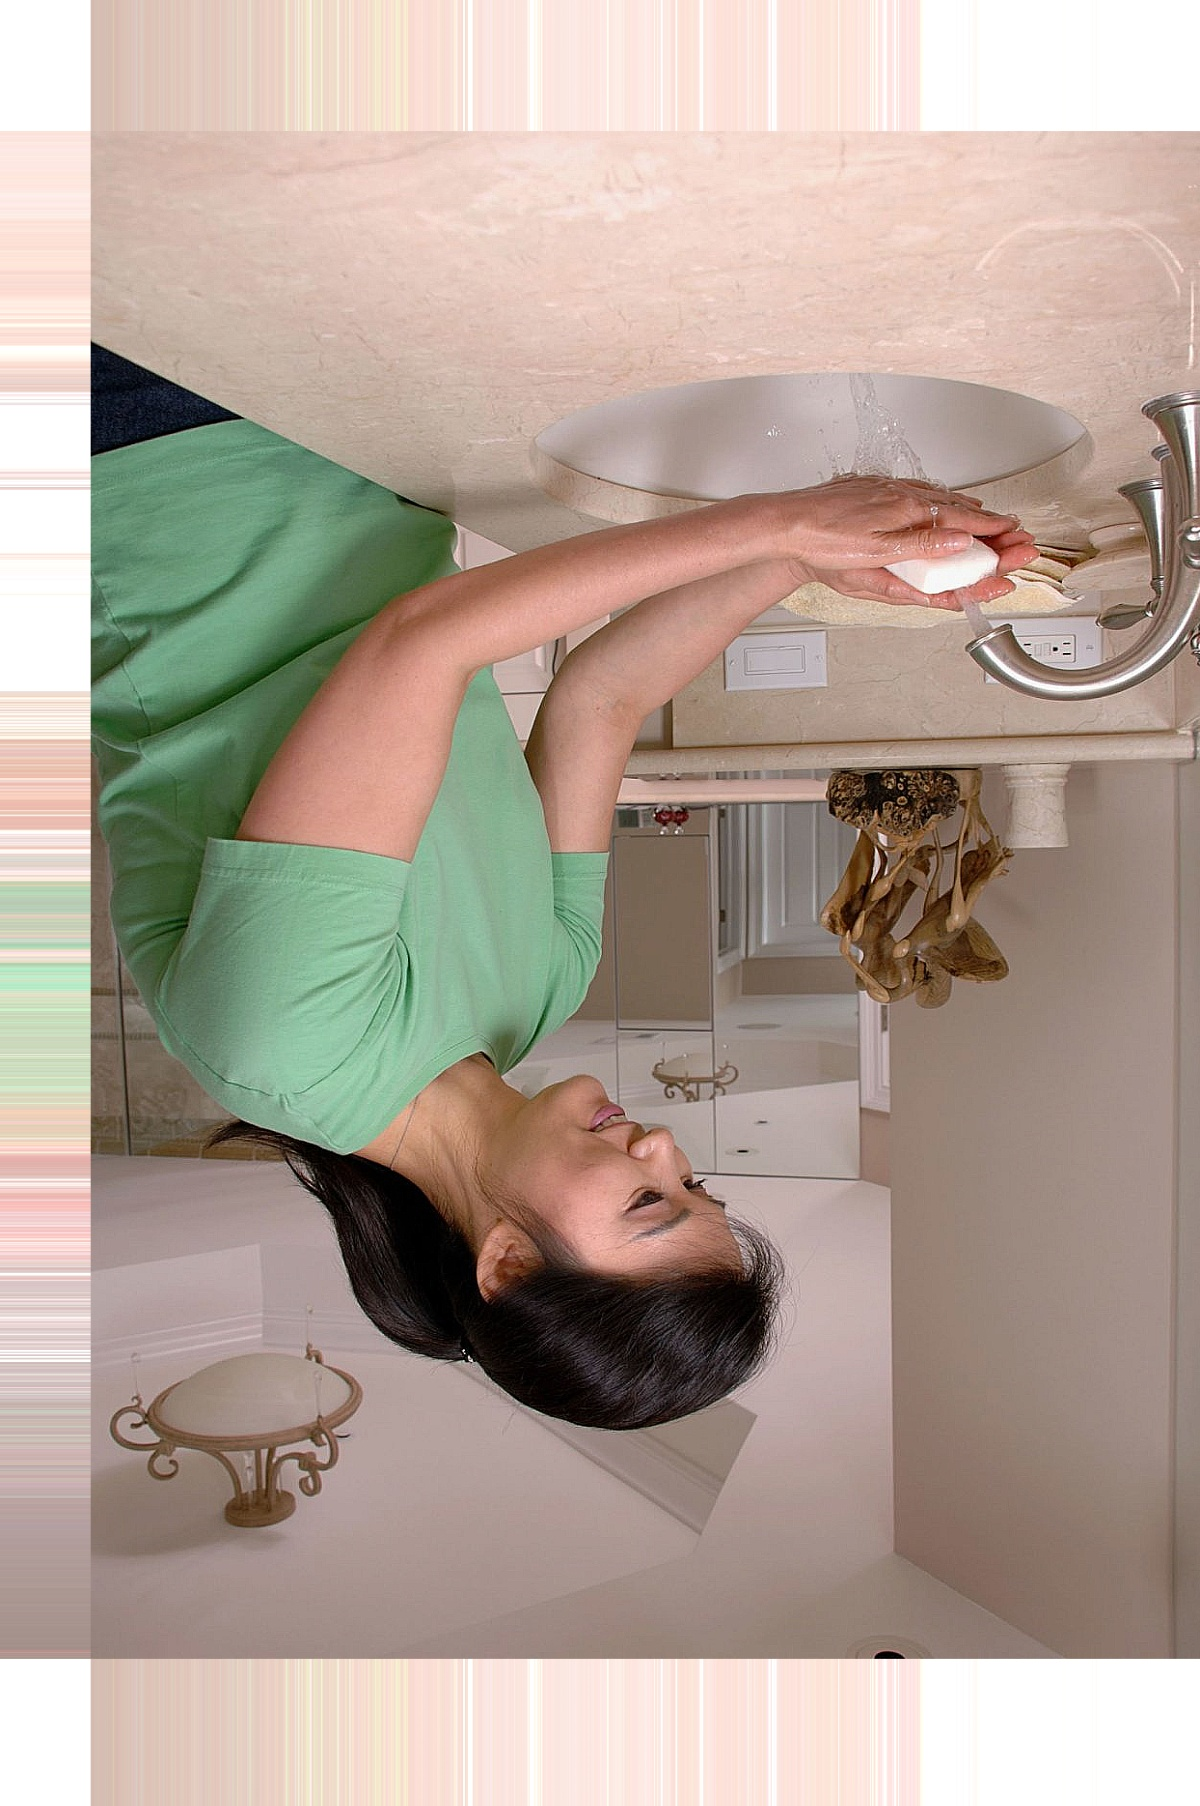washing hand: (767, 388, 1199, 752)
